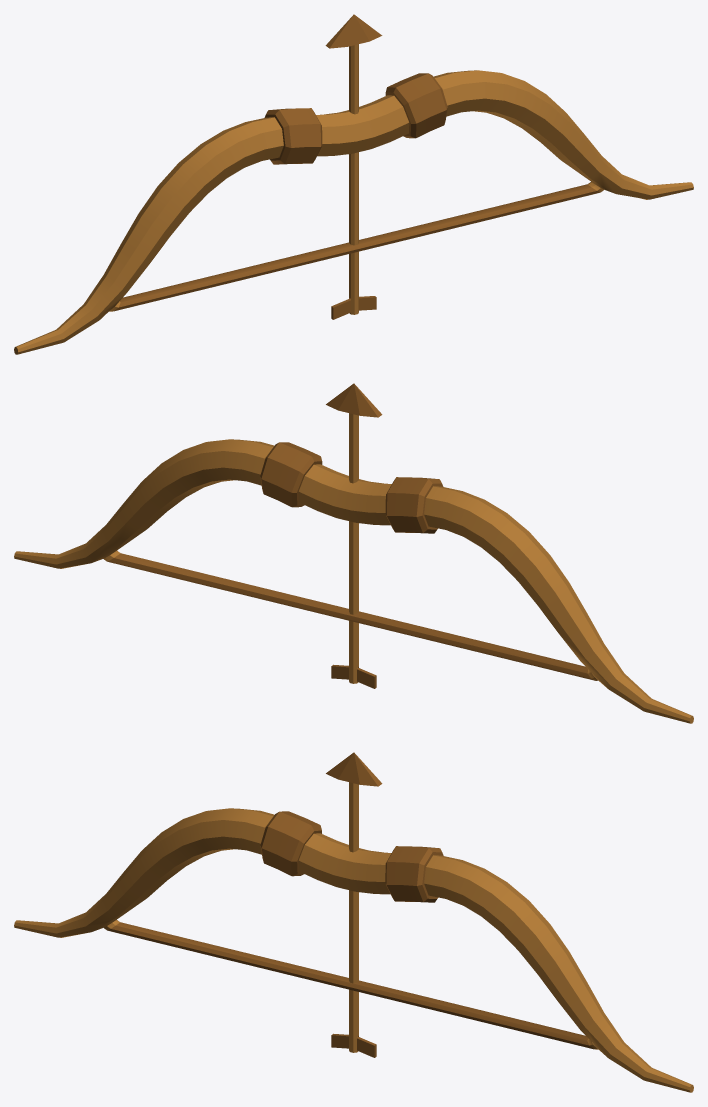
File: okyayLevel1.fbx
3 renders of one model, top to bottom at view 1: azimuth 30°, elevation 25°; view 2: azimuth 150°, elevation 25°; view 3: azimuth 330°, elevation 25°, orthographic.
Parts seen in each view (by area): view 1: YayLevel1, OkLevel1; view 2: YayLevel1, OkLevel1; view 3: YayLevel1, OkLevel1.
Boxes of the visible parts, <box> form: YayLevel1: <box>14,70,693,354</box>; OkLevel1: <box>325,14,382,319</box>; YayLevel1: <box>14,439,693,723</box>; OkLevel1: <box>326,383,382,688</box>; YayLevel1: <box>14,808,693,1092</box>; OkLevel1: <box>326,752,382,1057</box>.
Bounding box in the file's own units: 226 × 95.94 × 17.39.
